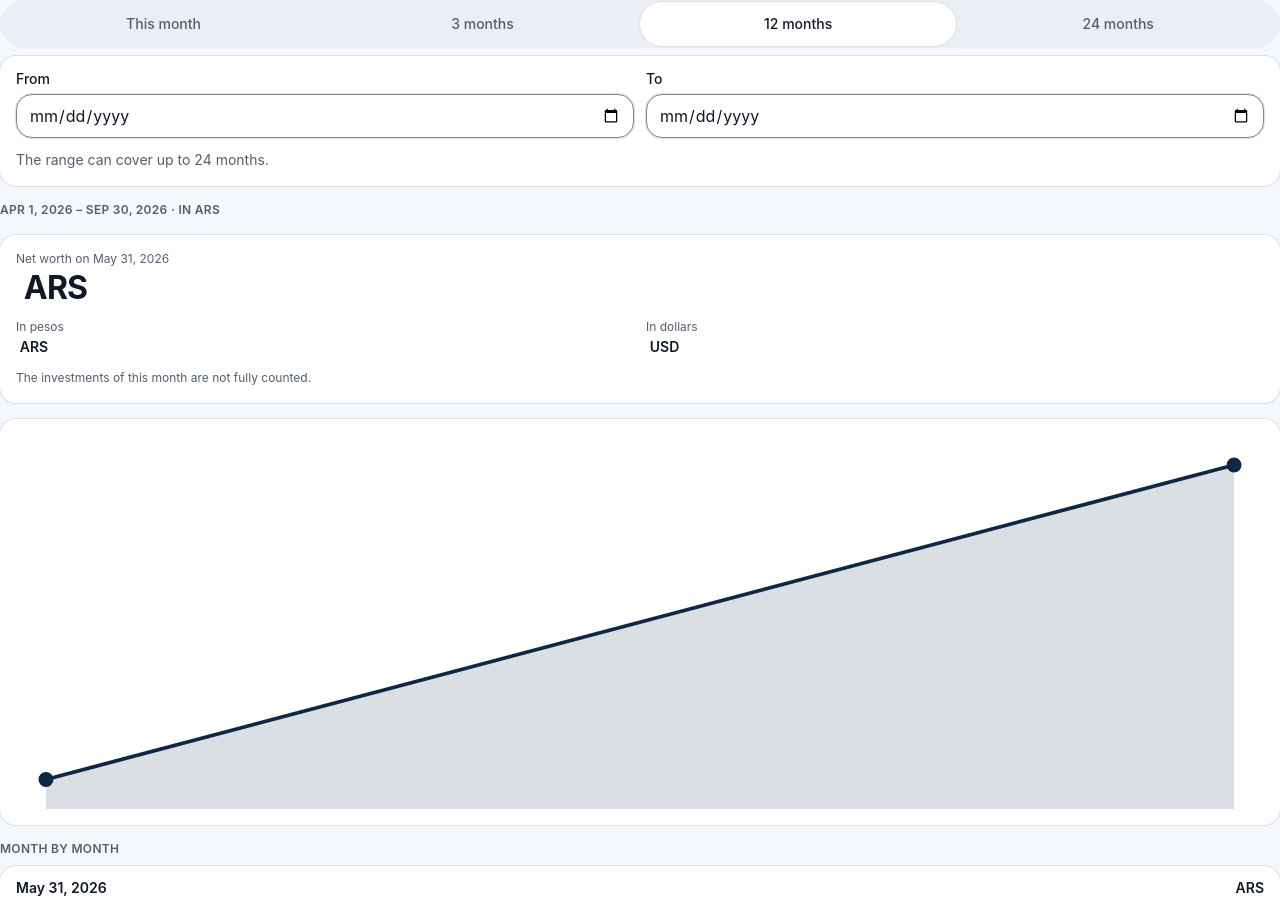
Test: NetWorthScreen gaps and fallbacks › flags a point with incomplete investments (AC-23)
Focus the slider at (640, 622), box 16,435 -> 1264,809
(page scrolled)
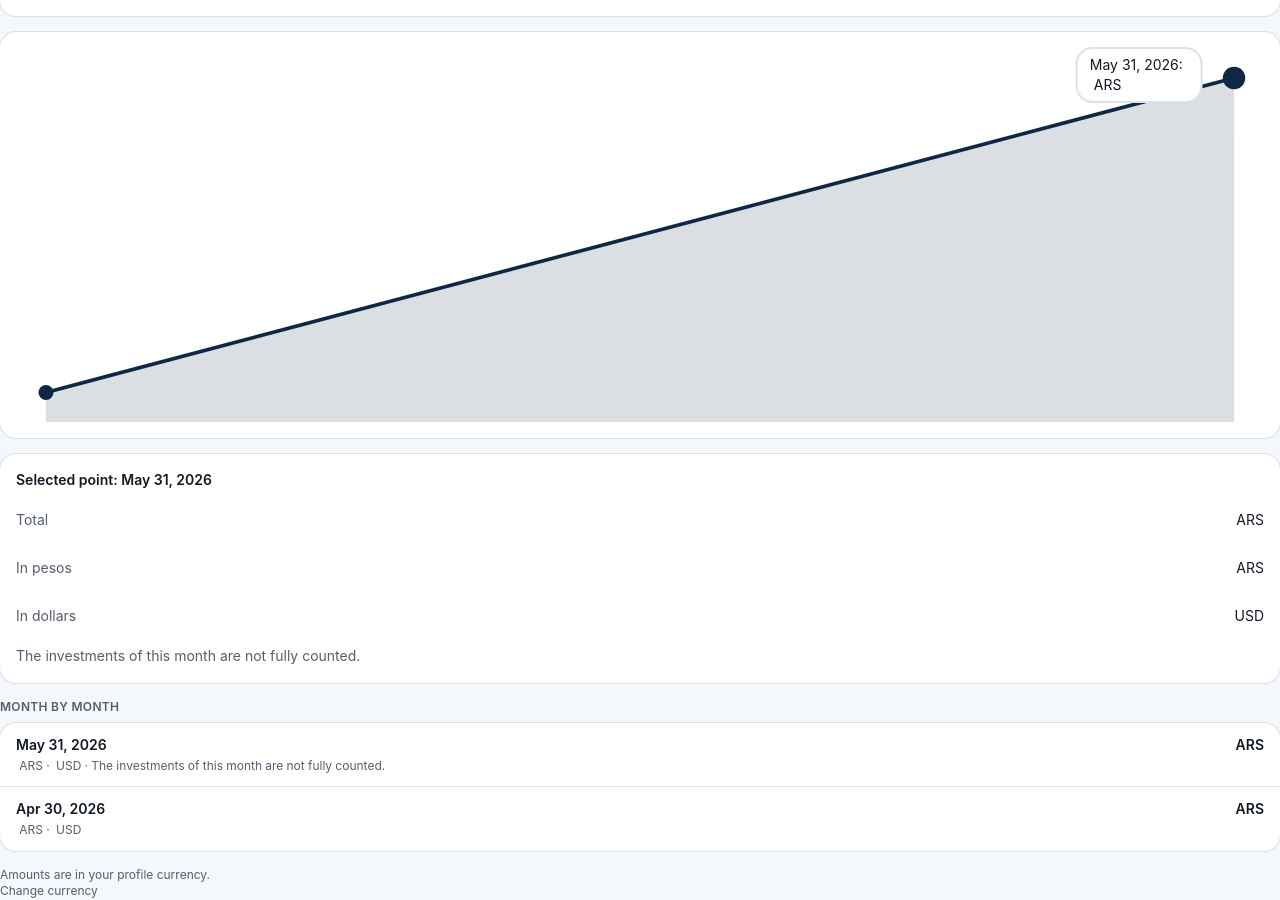
Expected: the element with test id "net-worth-detail" shows "The investments of this month are not fully counted.", 16,647 -> 360,664
